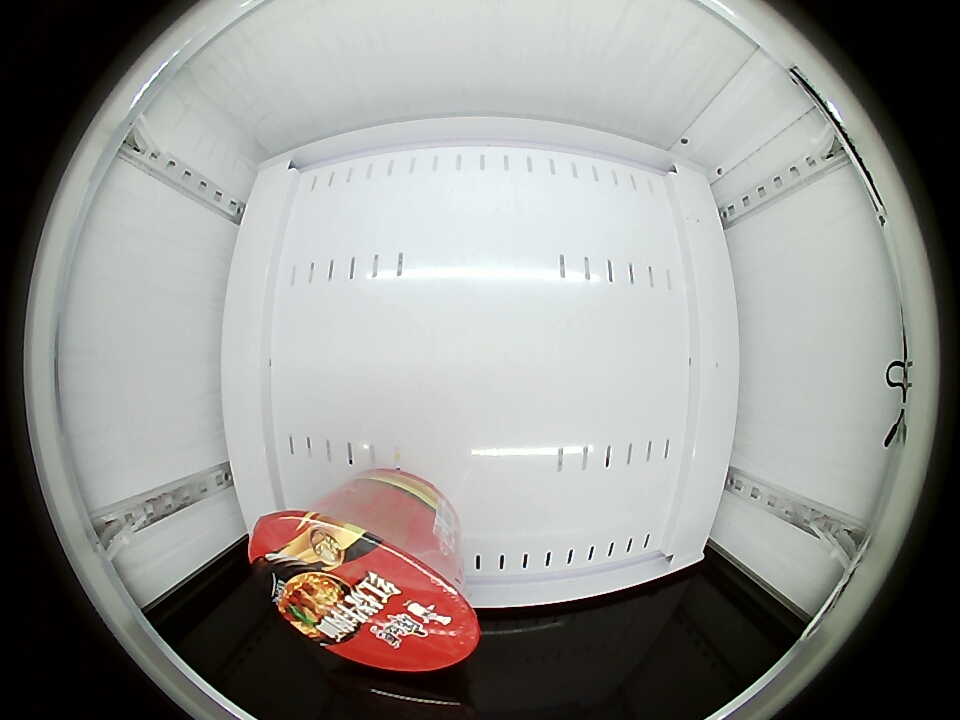hongshaoniurou: (254, 506, 478, 670)
